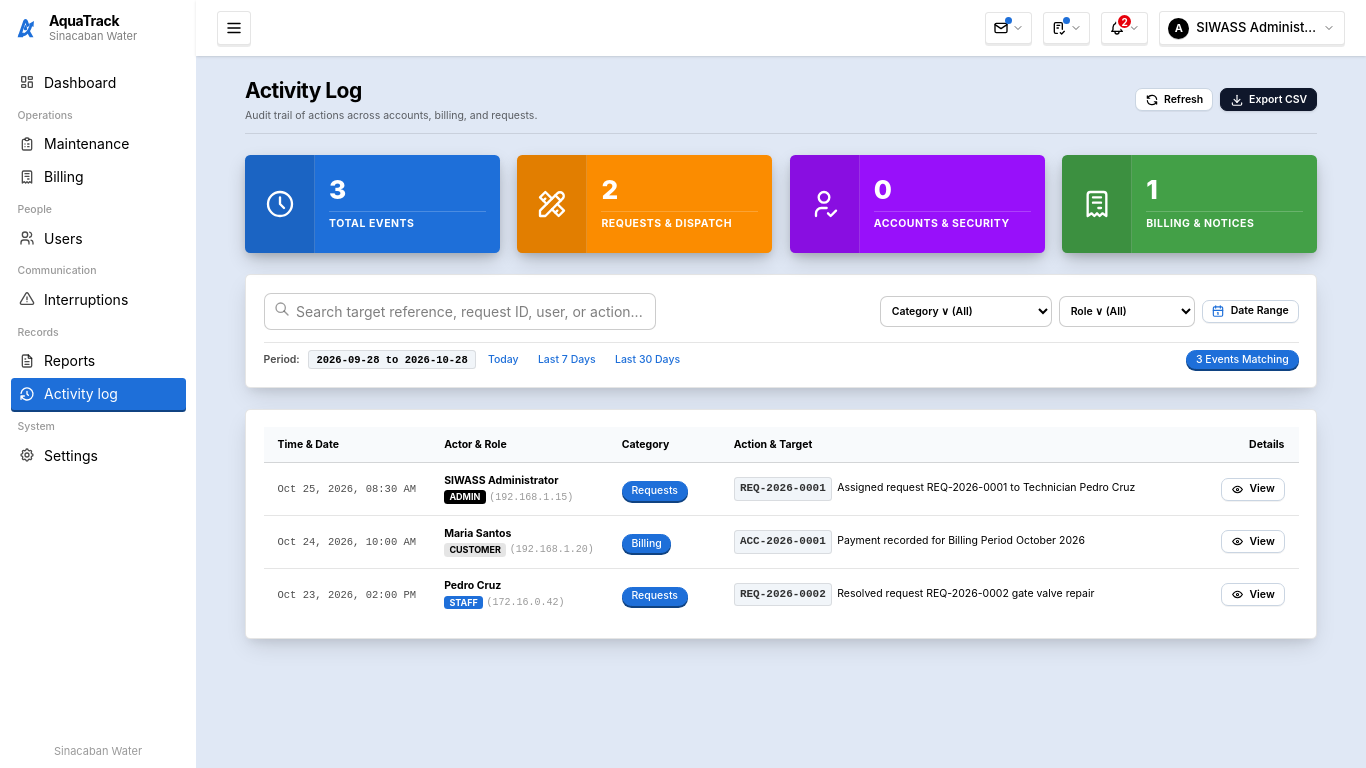
Scenario: AdminActivityLogView (Section 13 Audit Trail) › opens drawer with all fields and a link to the related item when clicking a row
Click the button "View" in the row of "Oct 25, 2026, 08:30 AM" at [1253, 489], box x1=1222 y1=478 x2=1284 y2=501
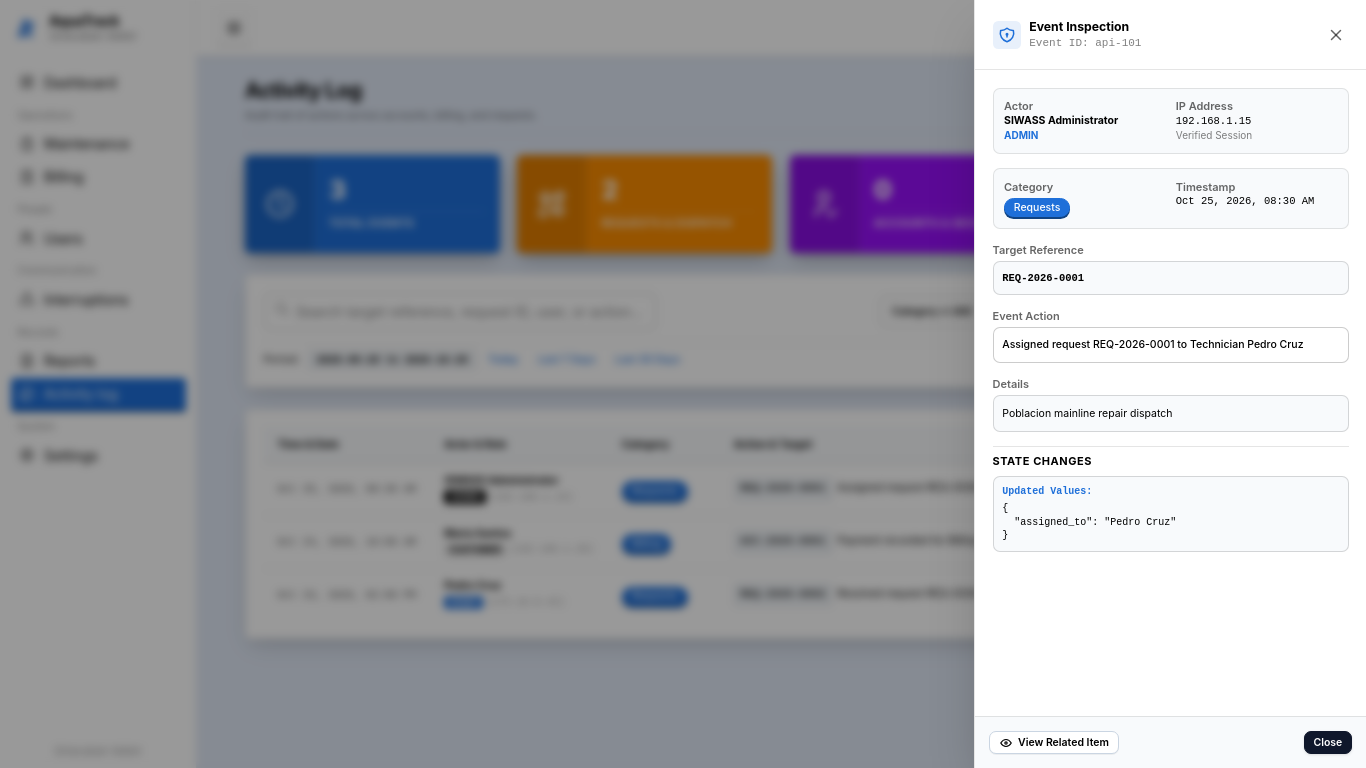
expect the heading "Event Inspection" is shown: met, box x1=1029 y1=18 x2=1142 y2=35
expect the text "Actor" is shown: met, box x1=1004 y1=99 x2=1033 y2=113
expect the text "IP Address" is shown: met, box x1=1176 y1=99 x2=1233 y2=113
